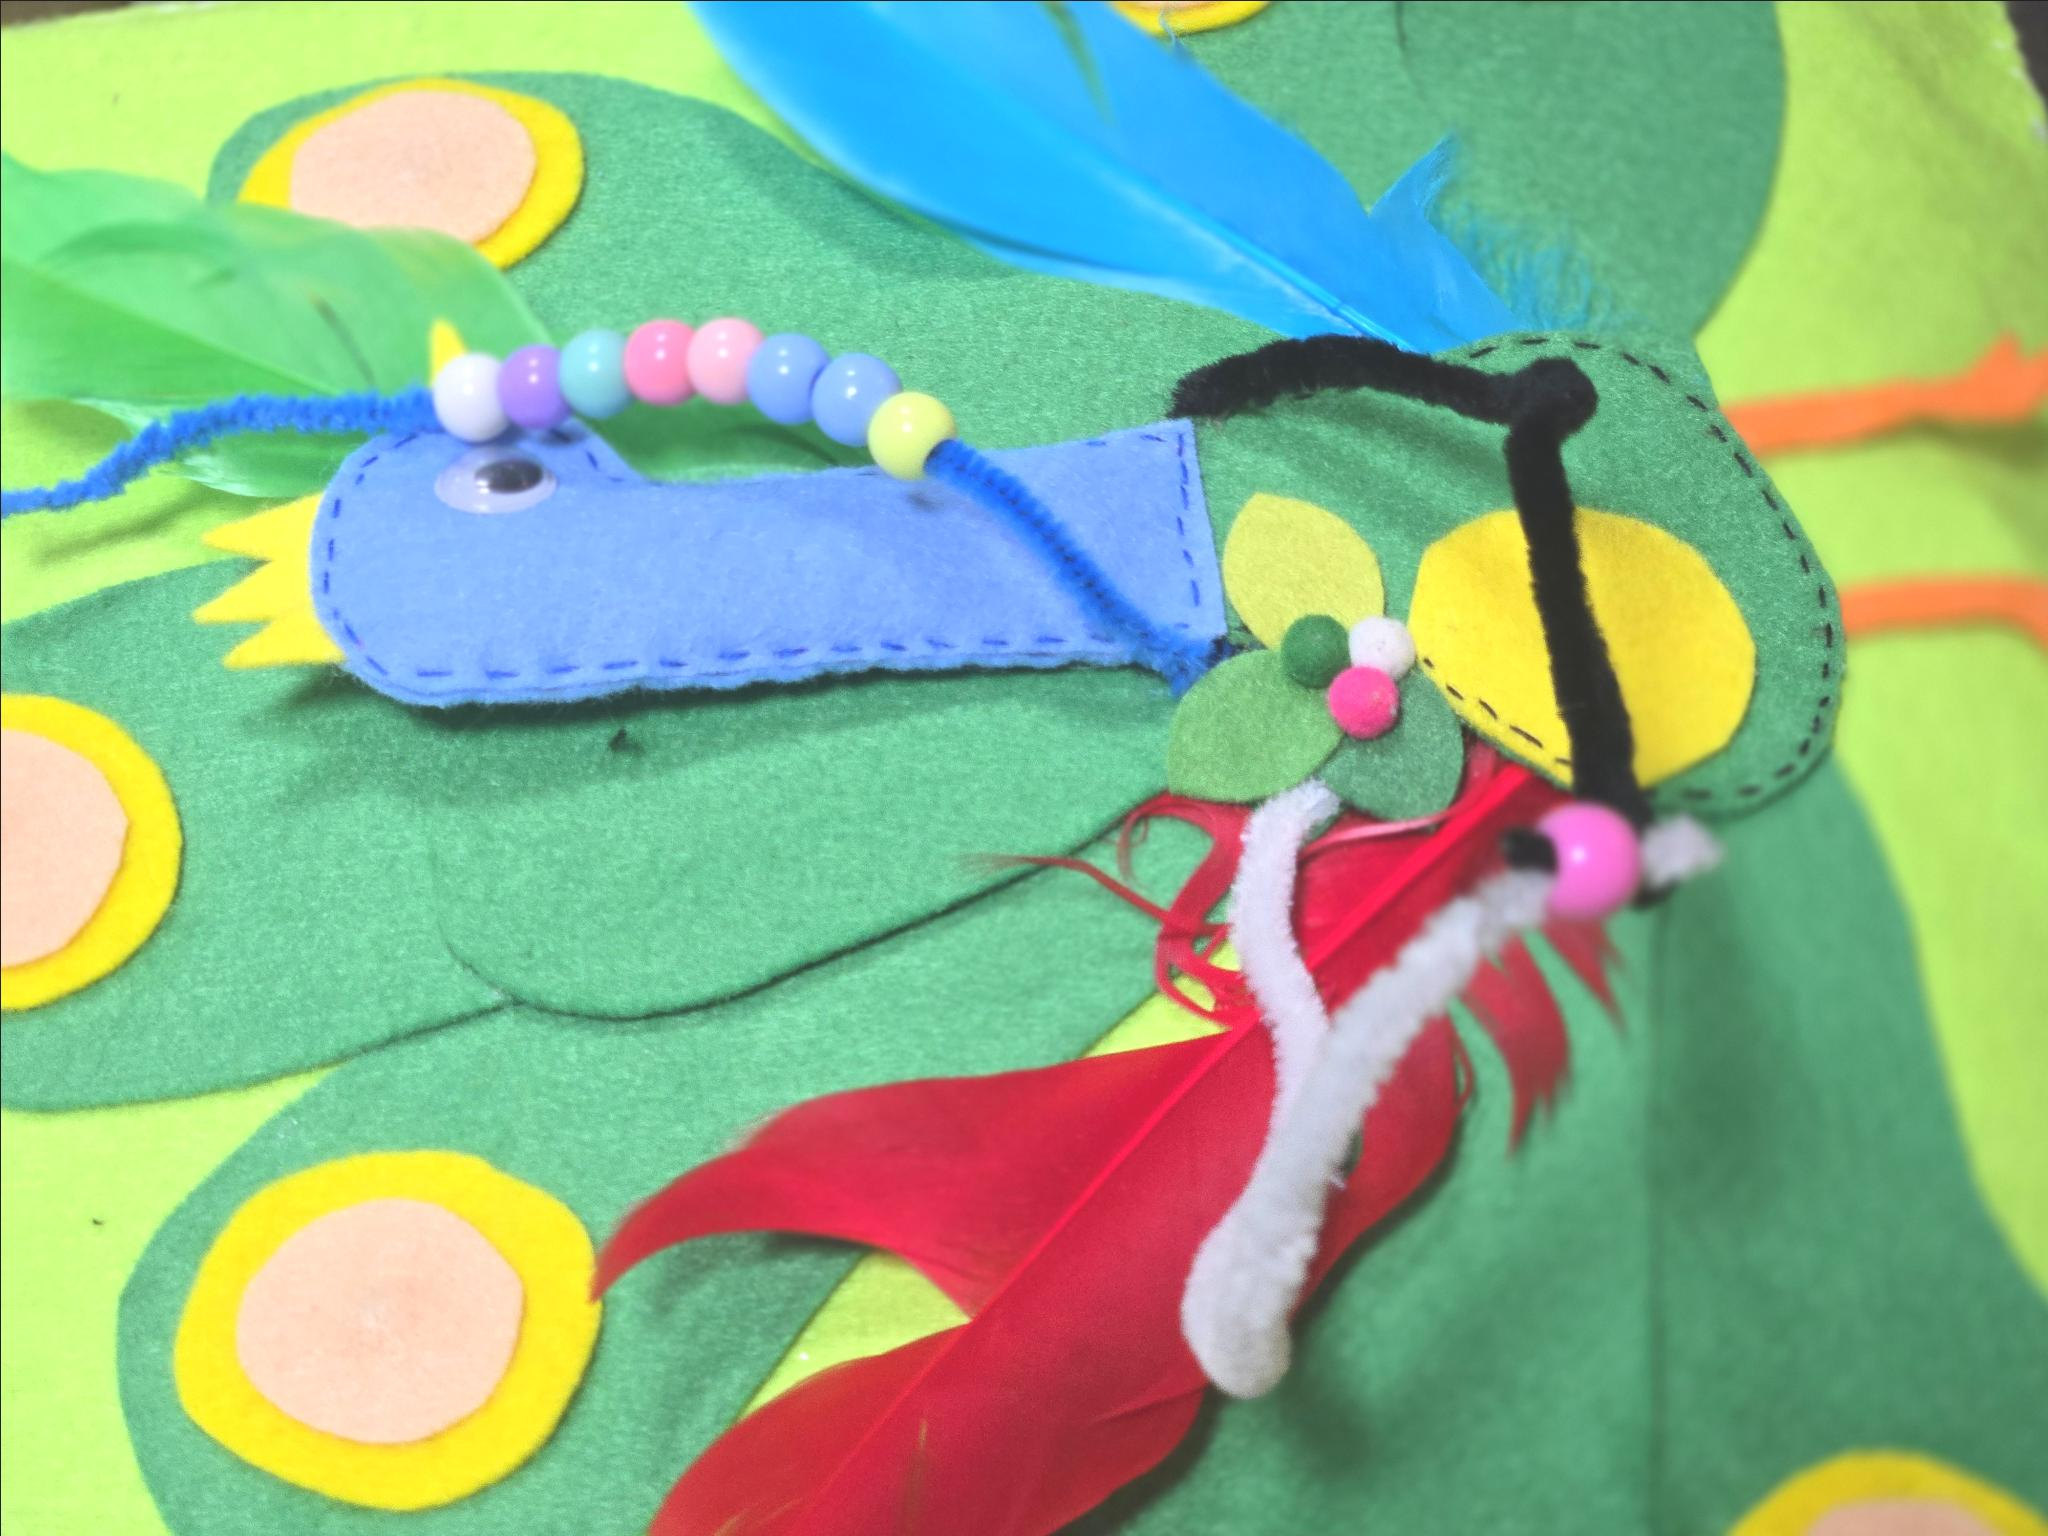bead: (1511, 781, 1659, 947), (848, 384, 963, 507), (745, 315, 826, 436), (797, 350, 880, 465), (550, 315, 622, 431), (431, 337, 500, 455), (487, 331, 561, 439), (624, 307, 692, 411), (687, 311, 755, 402)
